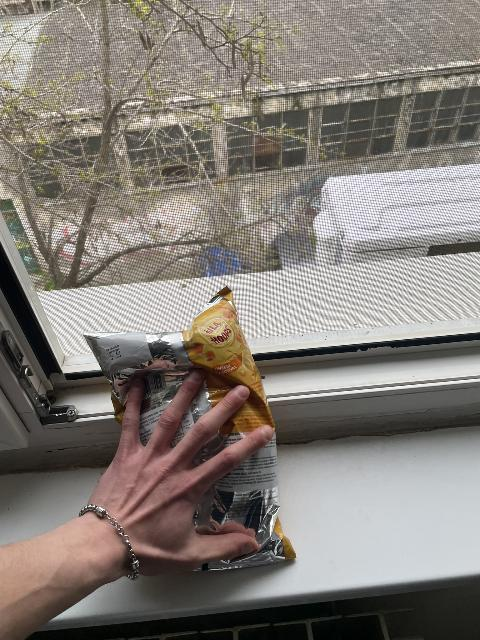Chio Hula Hoops Cheese 70g: (86, 296, 299, 563)
